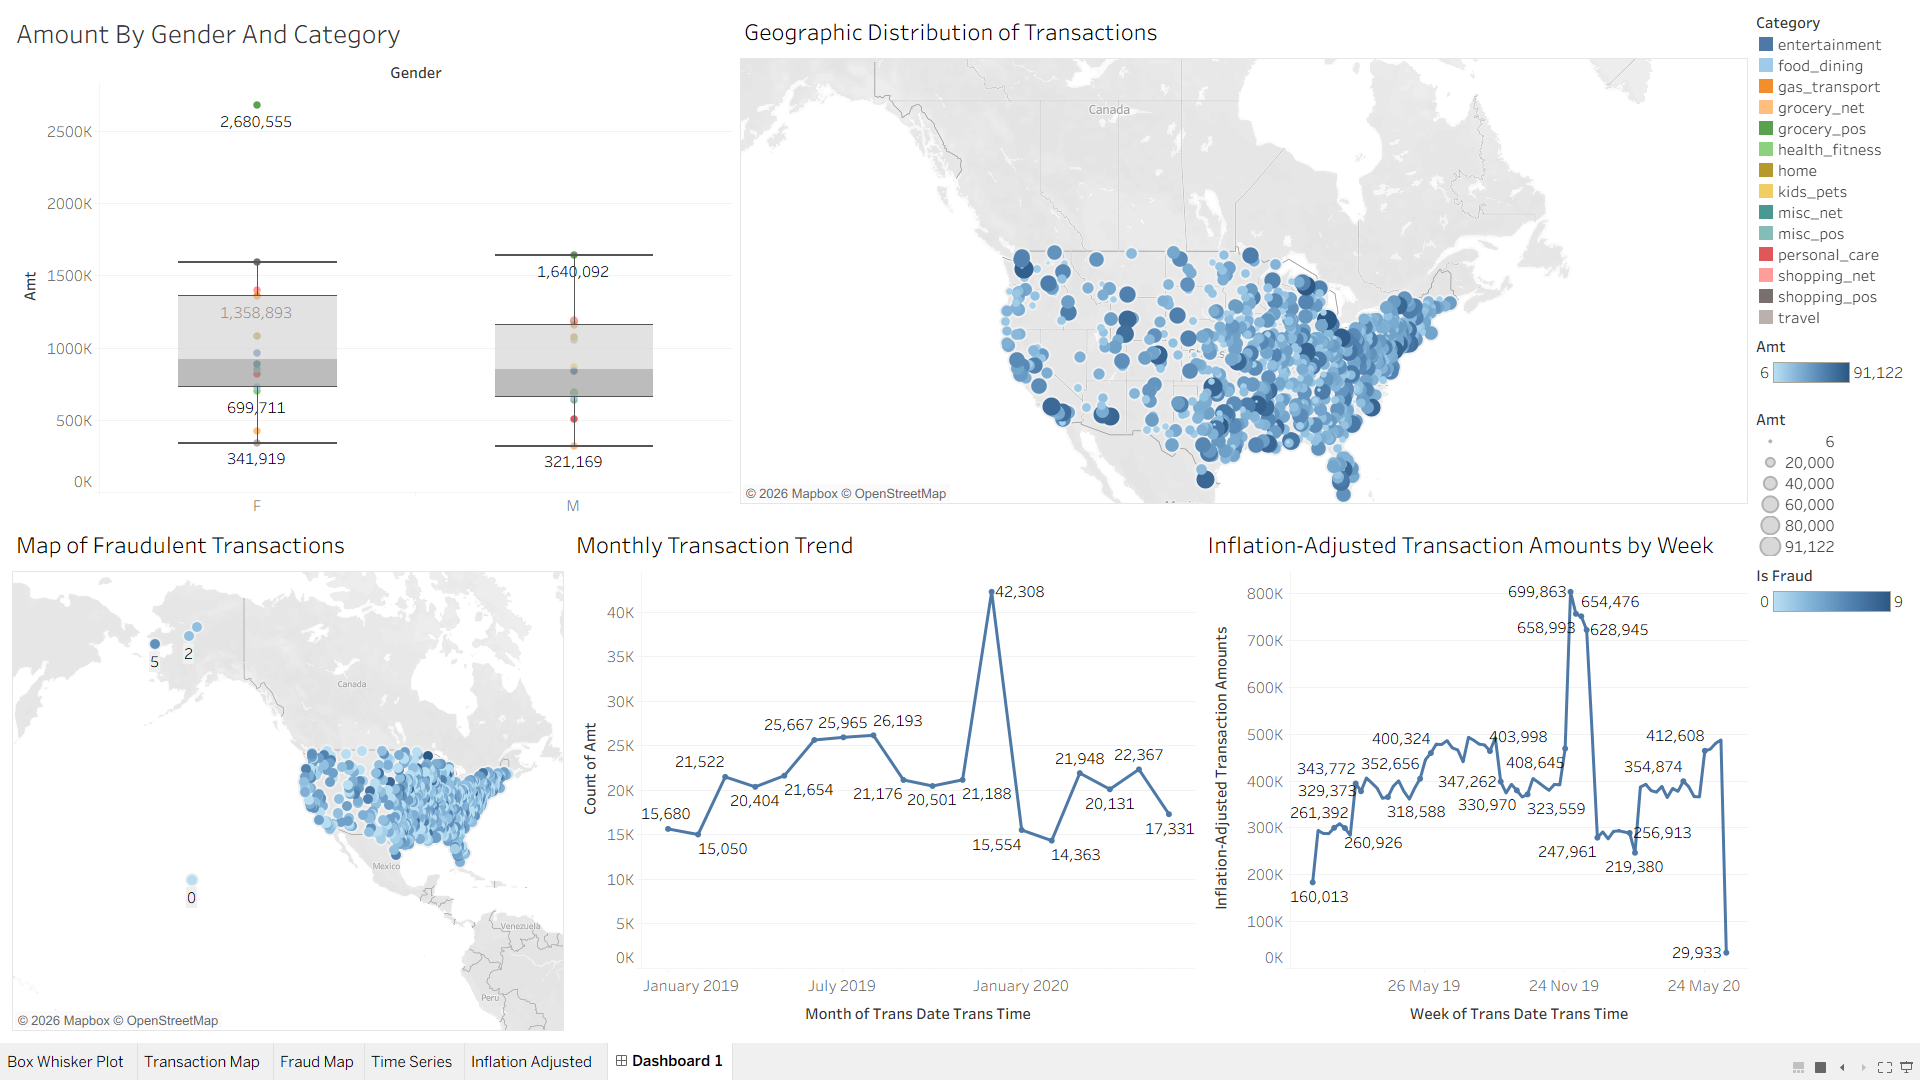

The dashboard page shown, as its layout file describes it:
{"tool":"tableau","page":{"name":"Dashboard 1","canvas":[1000,1000],"units":"permille","ordinal":0},"visuals":[{"type":"worksheet","title":"Box Whisker Plot","mark":"Circle","rows":["amt"],"cols":["gender"],"box":[11.5,9.5,311.7,489.9]},{"type":"worksheet","title":"Transaction Map","mark":"Automatic","rows":["lat"],"cols":["long"],"box":[323.2,9.5,435.1,489.9]},{"type":"legend","title":"Box Whisker Plot","param":"[federated.0qa5yxm1b1u8li14vhp4r1kfse4z].[none:category:nk]","box":[758.3,9.5,230.2,385.2]},{"type":"legend","title":"Transaction Map","param":"[federated.0qa5yxm1b1u8li14vhp4r1kfse4z].[sum:amt:qk]","box":[758.3,394.8,230.2,86.8]},{"type":"legend","title":"Transaction Map","param":"[federated.0qa5yxm1b1u8li14vhp4r1kfse4z].[sum:amt:qk]","box":[758.3,481.6,230.2,185.5]},{"type":"worksheet","title":"Fraud Map","mark":"Automatic","rows":["lat"],"cols":["long"],"box":[11.5,499.4,239.7,491.1]},{"type":"worksheet","title":"Time Series","mark":"Automatic","rows":["amt"],"cols":["trans_date_trans_time"],"box":[251.2,499.4,270.2,491.1]},{"type":"worksheet","title":"Inflation Adjusted","mark":"Automatic","rows":["Calculation_2085525703561216"],"cols":["trans_date_trans_time"],"box":[521.5,499.4,236.8,491.1]},{"type":"legend","title":"Fraud Map","param":"[federated.0qa5yxm1b1u8li14vhp4r1kfse4z].[sum:is_fraud:qk]","box":[758.3,667.1,230.2,86.8]}]}

Visuals, with their boxes on the dashboard's canvas, which has no fixed pixel size, in thousandths of its width and height (x1, y1, x2, y2). These are canvas units, not pixel positions in the 1920x1080 screenshot, which may show the page scaled, cropped or inside an application window:
"Box Whisker Plot" worksheet (Circle marks): x1=12 y1=10 x2=323 y2=499
"Transaction Map" worksheet: x1=323 y1=10 x2=758 y2=499
"Box Whisker Plot" legend: x1=758 y1=10 x2=988 y2=395
"Transaction Map" legend: x1=758 y1=395 x2=988 y2=482
"Transaction Map" legend: x1=758 y1=482 x2=988 y2=667
"Fraud Map" worksheet: x1=12 y1=499 x2=251 y2=990
"Time Series" worksheet: x1=251 y1=499 x2=521 y2=990
"Inflation Adjusted" worksheet: x1=522 y1=499 x2=758 y2=990
"Fraud Map" legend: x1=758 y1=667 x2=988 y2=754
